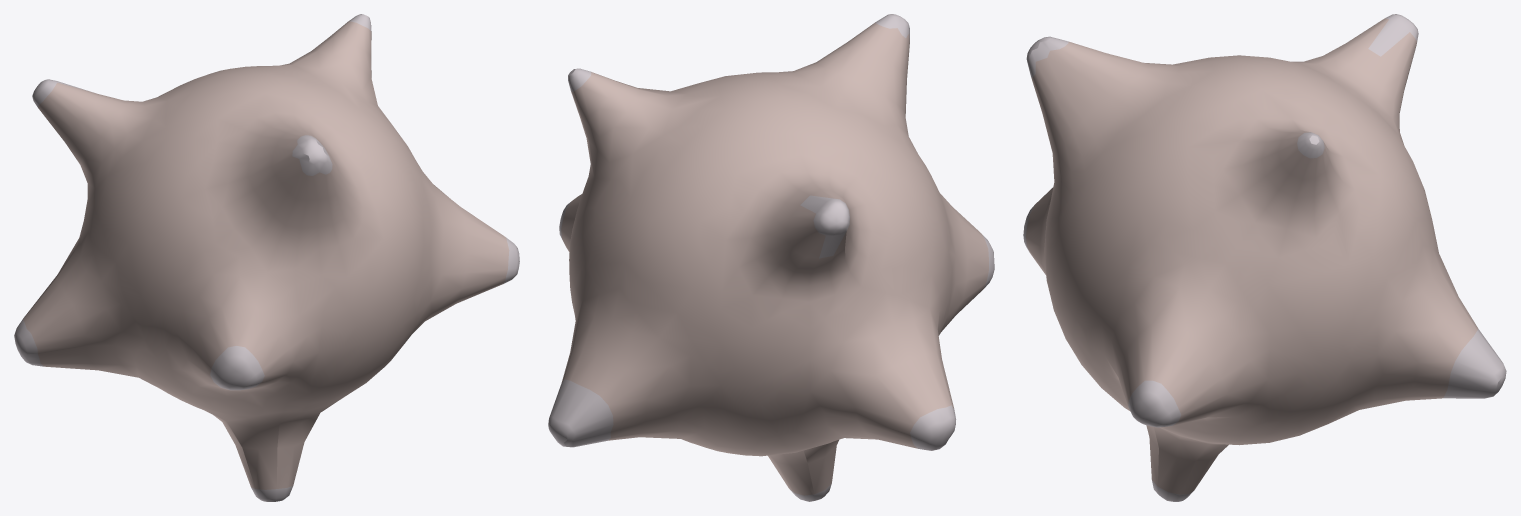
The model's file is quaternius-ultimate-space-pack-planet-4-transformed.glb.
The picture shows the model from 3 angles, left to right: view 1: azimuth 30°, elevation 25°; view 2: azimuth 150°, elevation 25°; view 3: azimuth 270°, elevation 25°; orthographic projection. The views are drawn at different scales.
Parts seen in each view (by area): view 1: Planet_4; view 2: Planet_4; view 3: Planet_4.
Part boxes in pixels (left/top/right/bottom): Planet_4: left=14, top=14, right=519, bottom=501; Planet_4: left=548, top=14, right=994, bottom=501; Planet_4: left=1023, top=14, right=1506, bottom=501.
Bounding box in the file's own units: 4.49 × 4.09 × 3.96.
1 material, 1 textured.
